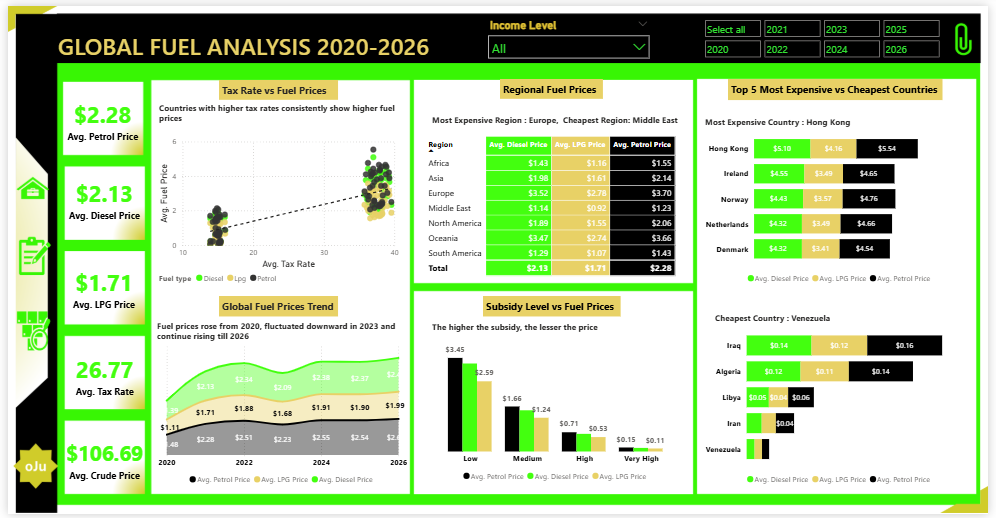

What the dashboard file says about the page in this screenshot:
{"tool":"powerbi","page":{"name":"Page 1","canvas":[1580,820],"ordinal":0},"visuals":[{"type":"scatterChart","title":"Global Fuel Price by Tax Rate","fields":{"Category":["Global_fuel_prices_202_2026.country"],"X":["Global_fuel_prices_202_2026.Avg. Tax Rate"],"Y":["Global_fuel_prices_202_2026.Avg. Fuel Price"],"Series":["Global_fuel_prices_202_2026.Fuel type"]},"box":[238.3,205,396.7,251.7],"z":0},{"type":"tableEx","title":"Global Fuel Prices by Region","fields":{"Values":["Global_fuel_prices_202_2026.region","Global_fuel_prices_202_2026.Avg. Diesel Price","Global_fuel_prices_202_2026.Avg. LPG Price","Global_fuel_prices_202_2026.Avg. Petrol Price"]},"box":[666.7,205,433.3,251.7],"z":1000},{"type":"clusteredColumnChart","title":"Global Fuel Prices by Subsidy Level","fields":{"Category":["Global_fuel_prices_202_2026.subsidy_level"],"Y":["Global_fuel_prices_202_2026.Avg. Petrol Price","Global_fuel_prices_202_2026.Avg. Diesel Price","Global_fuel_prices_202_2026.Avg. LPG Price"]},"box":[667.1,532.9,432.9,244.3],"z":2000},{"type":"stackedAreaChart","title":"Global Fuel Price Yearly Trend","fields":{"Category":["Global_fuel_prices_202_2026.date.Variation.Date Hierarchy.Year"],"Y":["Global_fuel_prices_202_2026.Avg. Petrol Price","Global_fuel_prices_202_2026.Avg. LPG Price","Global_fuel_prices_202_2026.Avg. Diesel Price"]},"box":[236.7,533.3,411.7,248.3],"z":3000},{"type":"barChart","title":"5 Cheapest Country","fields":{"Category":["Global_fuel_prices_202_2026.country"],"Y":["Global_fuel_prices_202_2026.Avg. Diesel Price","Global_fuel_prices_202_2026.Avg. LPG Price","Global_fuel_prices_202_2026.Avg. Petrol Price"]},"box":[1120,501.7,445,280],"z":4000},{"type":"barChart","fields":{"Category":["Global_fuel_prices_202_2026.country"],"Y":["Global_fuel_prices_202_2026.Avg. Diesel Price","Global_fuel_prices_202_2026.Avg. LPG Price","Global_fuel_prices_202_2026.Avg. Petrol Price"]},"box":[1120,186,446,272],"z":5000},{"type":"card","fields":{"Values":["Global_fuel_prices_202_2026.Avg. Diesel Price"]},"box":[80,266,150,92],"z":6000},{"type":"card","fields":{"Values":["Global_fuel_prices_202_2026.Avg. LPG Price"]},"box":[84,408,142,94],"z":7000},{"type":"card","fields":{"Values":["Global_fuel_prices_202_2026.Avg. Petrol Price"]},"box":[76,132,154,104],"z":8000},{"type":"card","fields":{"Values":["Global_fuel_prices_202_2026.Avg. Tax Rate"]},"box":[84,548,144,94],"z":9000},{"type":"card","fields":{"Values":["Global_fuel_prices_202_2026.Avg. Crude Price"]},"box":[80,686,150,92],"z":10000},{"type":"textbox","box":[340.6,468.3,191.7,33.3],"z":11000},{"type":"textbox","box":[340.5,120,192,32],"z":12000},{"type":"textbox","box":[766.2,468.3,221.7,33.3],"z":13000},{"type":"textbox","box":[1162,118,346,34],"z":14000},{"type":"textbox","box":[794.1,118,166,32],"z":15000},{"type":"textbox","box":[1120,173.3,353.3,31.7],"z":16000},{"type":"textbox","box":[1135,488.3,353.3,30],"z":17000},{"type":"textbox","box":[678.3,170,415,30],"z":18000},{"type":"textbox","box":[678.3,503.3,283.3,30],"z":19000},{"type":"textbox","box":[238,150,410,50],"z":20000},{"type":"textbox","box":[236,502,412,46],"z":21000},{"type":"textbox","box":[75,33.3,715,68.3],"z":22000},{"type":"slicer","fields":{"Values":["Global_fuel_prices_202_2026.Income Level"]},"box":[764,14,280,70],"z":23000},{"type":"advancedSlicerVisual","fields":{"Values":["Global_fuel_prices_202_2026.date.Variation.Date Hierarchy.Year"]},"box":[1120,18,388,70],"z":24000}]}

Visuals, with their boxes in screenshot pixels (x1, y1, x2, y2), scaled from the page's 1580x820 canvas onto the 996x518 screenshot:
"Global Fuel Price by Tax Rate" scatterChart: <box>150,130,400,289</box>
"Global Fuel Prices by Region" tableEx: <box>420,130,693,289</box>
"Global Fuel Prices by Subsidy Level" clusteredColumnChart: <box>421,337,693,491</box>
"Global Fuel Price Yearly Trend" stackedAreaChart: <box>149,337,409,494</box>
"5 Cheapest Country" barChart: <box>706,317,987,494</box>
barChart - Global_fuel_prices_202_2026.country x Global_fuel_prices_202_2026.Avg. Diesel Price: <box>706,117,987,289</box>
card - Global_fuel_prices_202_2026.Avg. Diesel Price: <box>50,168,145,226</box>
card - Global_fuel_prices_202_2026.Avg. LPG Price: <box>53,258,142,317</box>
card - Global_fuel_prices_202_2026.Avg. Petrol Price: <box>48,83,145,149</box>
card - Global_fuel_prices_202_2026.Avg. Tax Rate: <box>53,346,144,406</box>
card - Global_fuel_prices_202_2026.Avg. Crude Price: <box>50,433,145,491</box>
textbox: <box>215,296,336,317</box>
textbox: <box>215,76,336,96</box>
textbox: <box>483,296,623,317</box>
textbox: <box>733,75,951,96</box>
textbox: <box>501,75,605,95</box>
textbox: <box>706,109,929,130</box>
textbox: <box>715,308,938,327</box>
textbox: <box>428,107,689,126</box>
textbox: <box>428,318,606,337</box>
textbox: <box>150,95,408,126</box>
textbox: <box>149,317,408,346</box>
textbox: <box>47,21,498,64</box>
slicer - Global_fuel_prices_202_2026.Income Level: <box>482,9,658,53</box>
advancedSlicerVisual - Global_fuel_prices_202_2026.date.Variation.Date Hierarchy.Year: <box>706,11,951,56</box>
